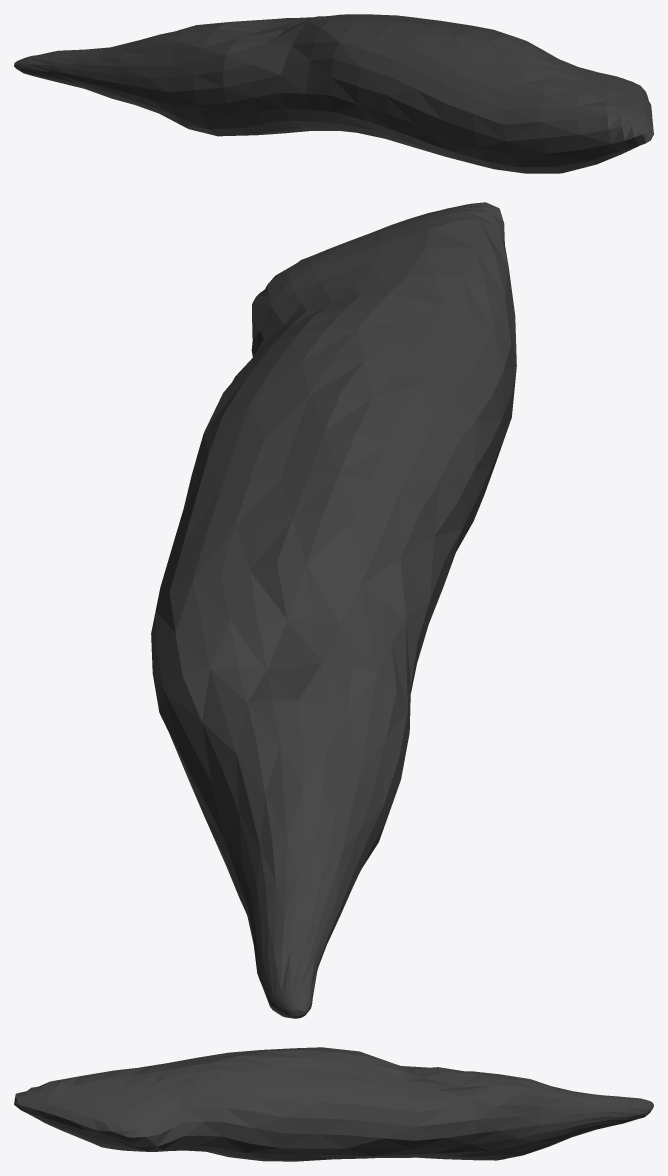
Rendered from Triceps_1.glb.
3 renders of one model, top to bottom at view 1: azimuth 30°, elevation 25°; view 2: azimuth 150°, elevation 25°; view 3: azimuth 270°, elevation 25°, orthographic. The views are drawn at different scales.
Parts seen in each view (by area): view 1: Triceps_1; view 2: Triceps_1; view 3: Triceps_1.
Part boxes in pixels (bbox=[...]): Triceps_1: bbox=[14, 14, 653, 173]; Triceps_1: bbox=[151, 202, 516, 1018]; Triceps_1: bbox=[14, 1047, 653, 1161].
Size of the model in its own units: 0.0211 by 0.0105 by 0.0416.
1 material, 1 textured.
